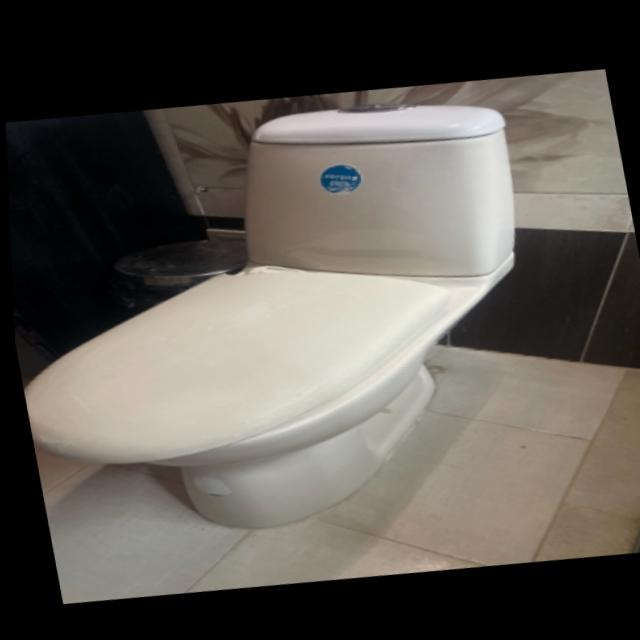toilet: (2, 65, 572, 568)
